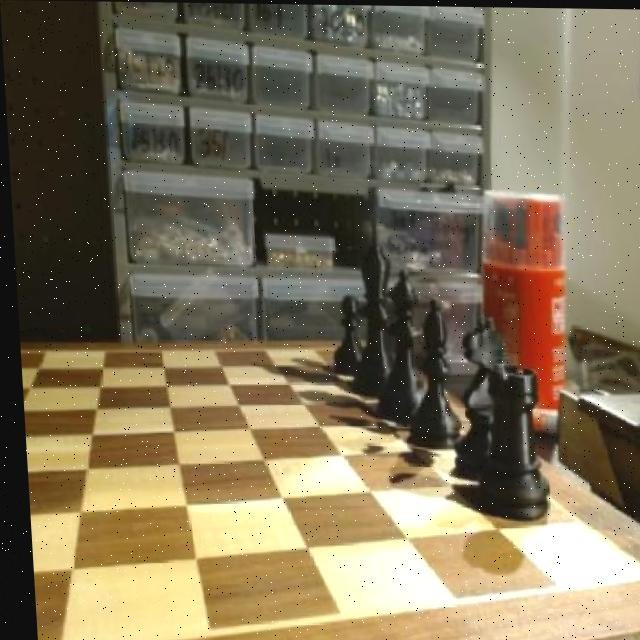bishop: (400, 300, 458, 449)
black-bishop: (346, 236, 395, 395)
black-king: (446, 319, 502, 483)
black-knight: (324, 292, 361, 381)
black-pawn: (369, 267, 422, 420)
black-queen: (471, 361, 548, 525)
